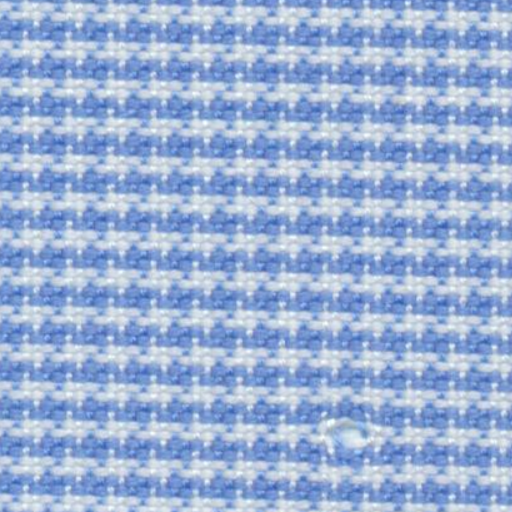PoDong: (301, 399, 401, 464)
